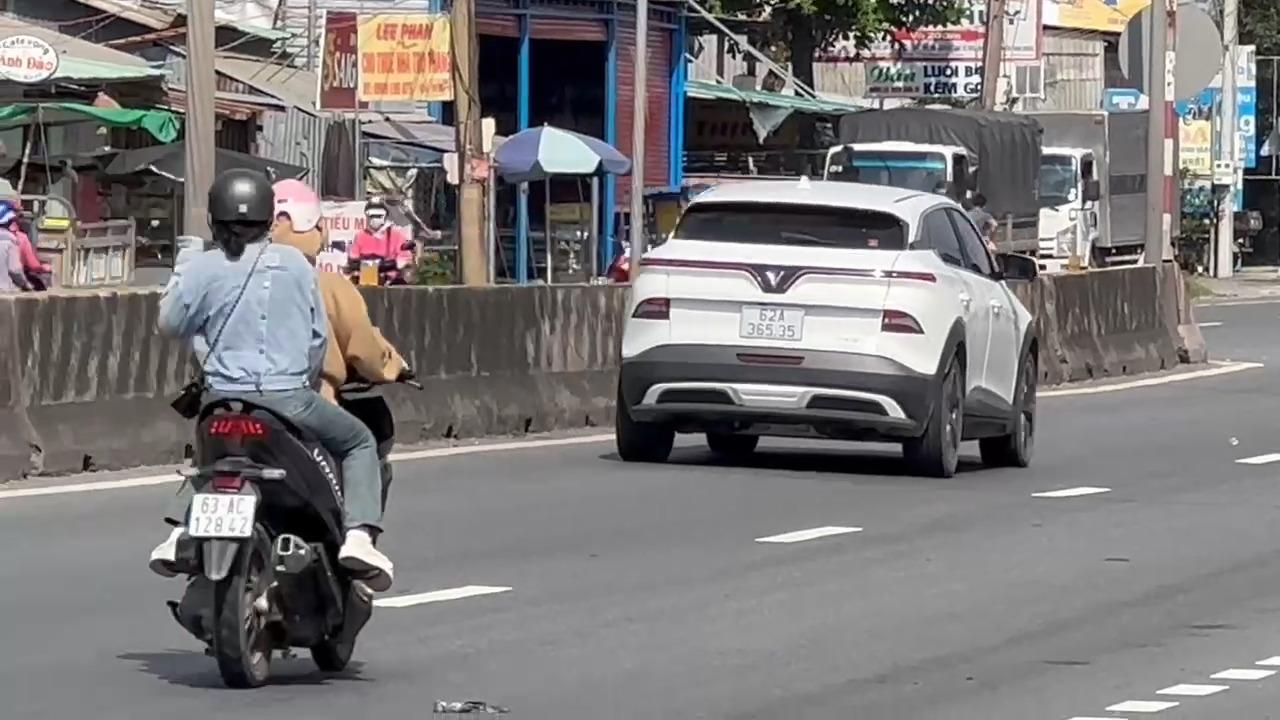bien_so: (186, 492, 256, 539), (738, 304, 804, 341)
